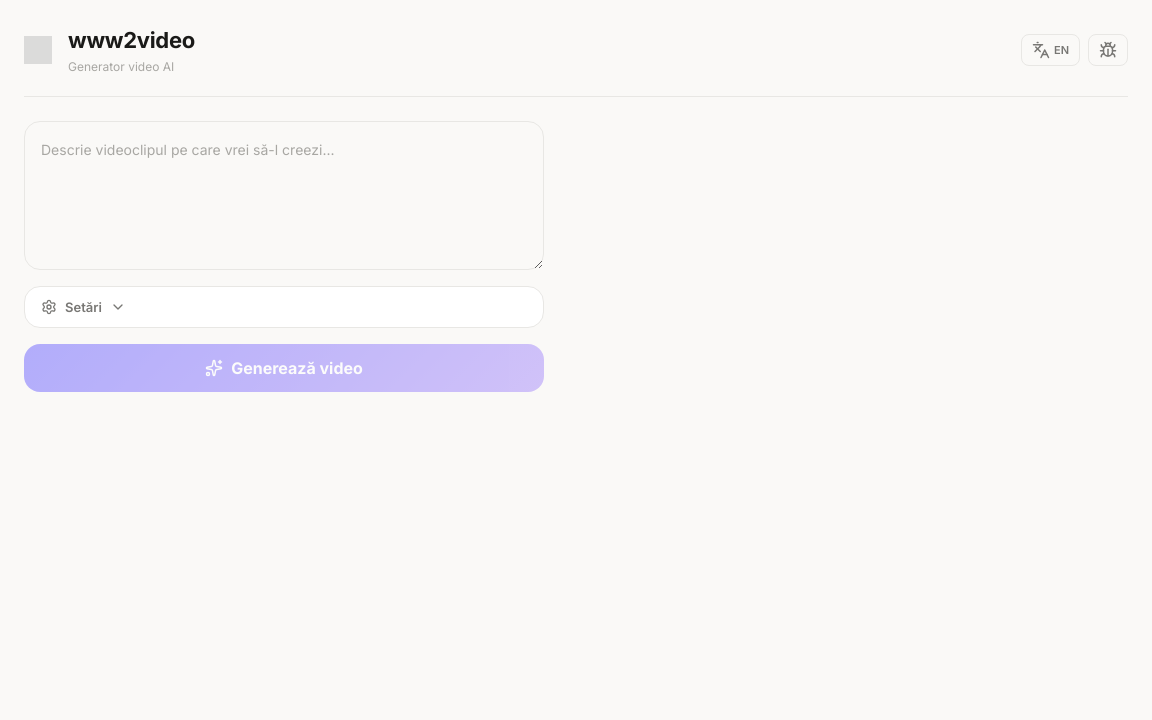
Test: Generator Component › shows settings fields when toggle is clicked
Click the button "Setări": click(83, 307) [24,286,544,328]
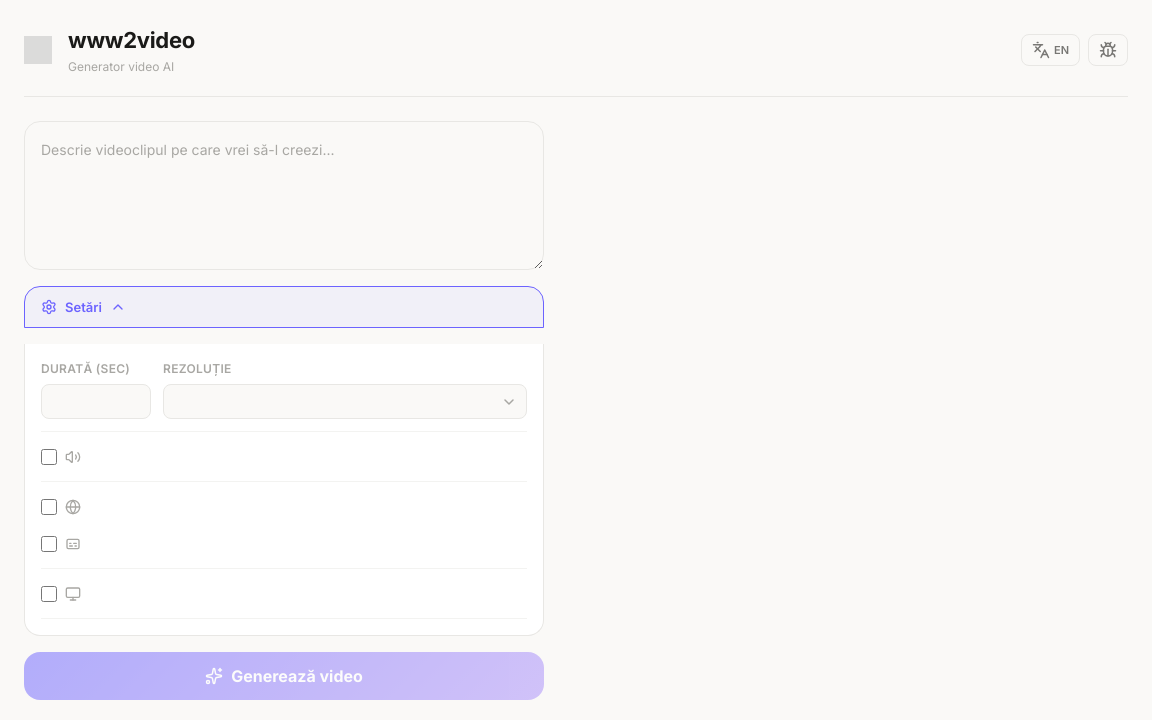
Expected: the text "Durată (sec)" is shown, [41,362,130,376]
Expected: the text "Rezoluție" is shown, [163,362,232,376]
